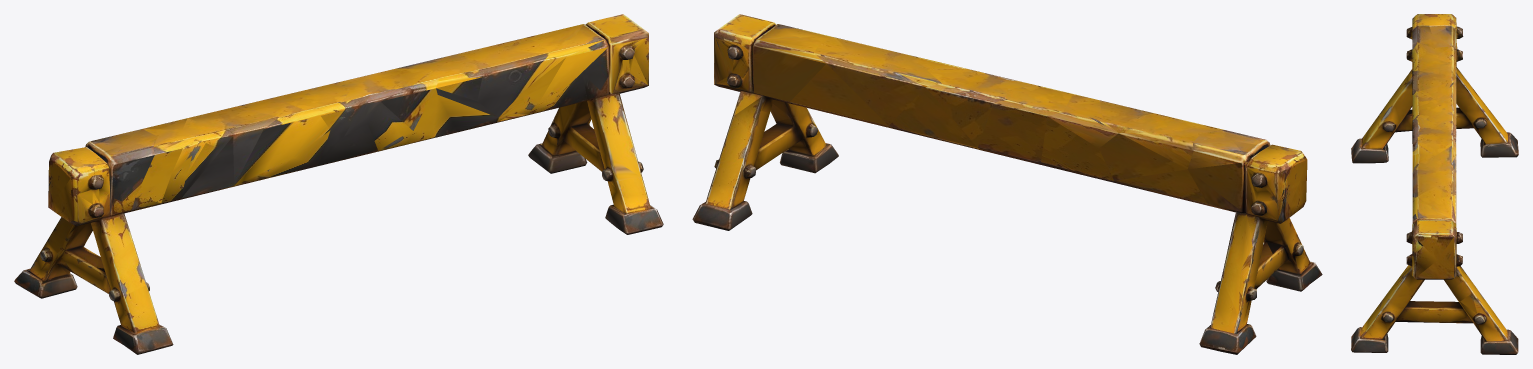
File: barrier.glb
3 renders of one model, left to right at view 1: azimuth 30°, elevation 25°; view 2: azimuth 150°, elevation 25°; view 3: azimuth 270°, elevation 25°, orthographic. The views are drawn at different scales.
Visible parts, largest first — view 1: TripoBarrier_Mesh; view 2: TripoBarrier_Mesh; view 3: TripoBarrier_Mesh.
Boxes of the visible parts, left/top/right/bottom form: TripoBarrier_Mesh: left=14, top=14, right=663, bottom=354; TripoBarrier_Mesh: left=692, top=14, right=1322, bottom=354; TripoBarrier_Mesh: left=1351, top=14, right=1518, bottom=354.
Bounding box in the file's own units: 2.2 × 0.6 × 0.7.
Materials: 1 (1 with a texture image).
